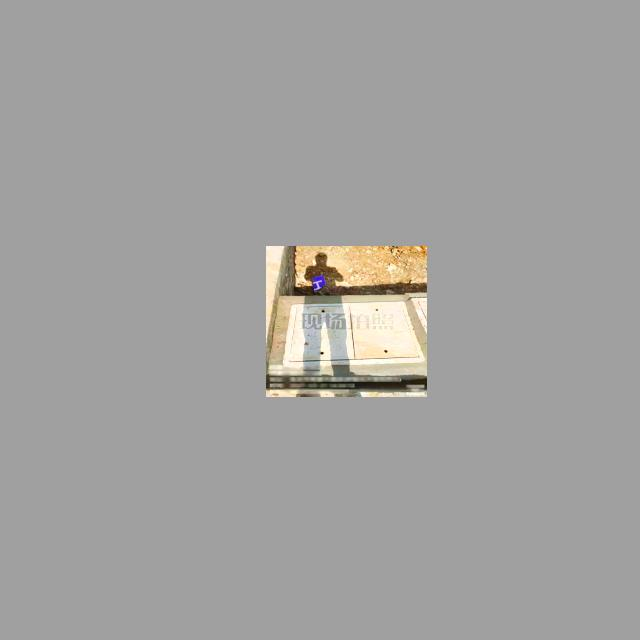good: (283, 300, 425, 367)
